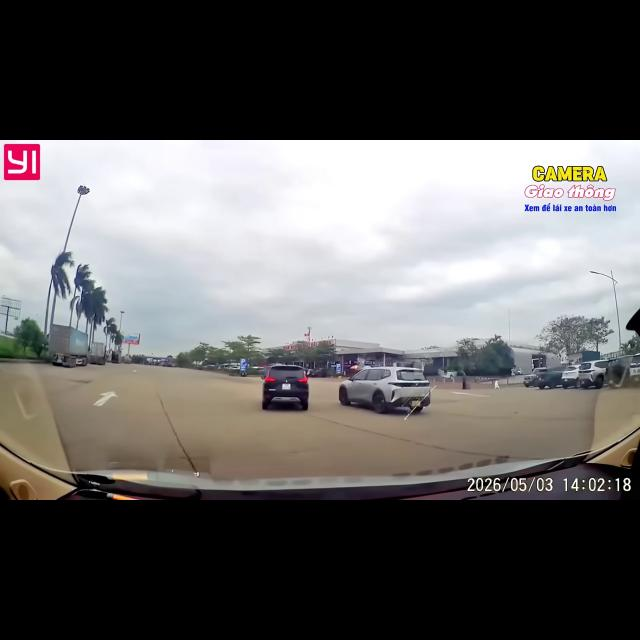car: (339, 367, 431, 413), (262, 365, 309, 410), (605, 355, 636, 388), (576, 360, 608, 388), (537, 366, 565, 389), (523, 367, 546, 387), (562, 365, 579, 388)
truck: (49, 325, 88, 367), (88, 342, 106, 366)
